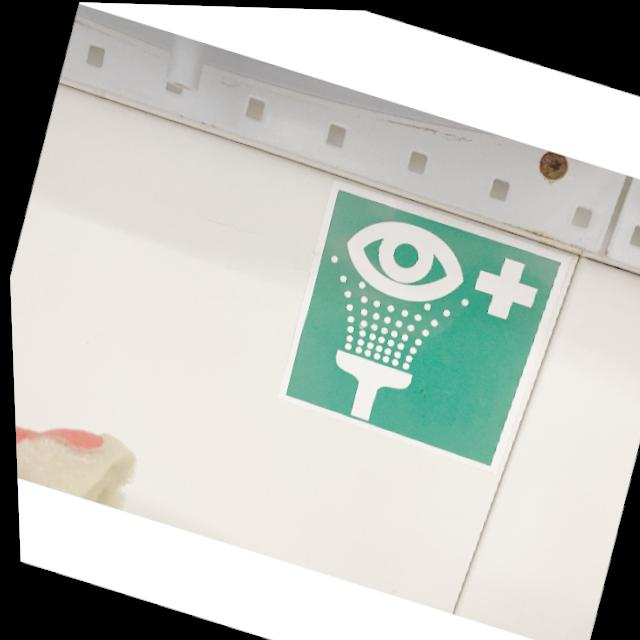eye shower: (264, 174, 577, 481)
